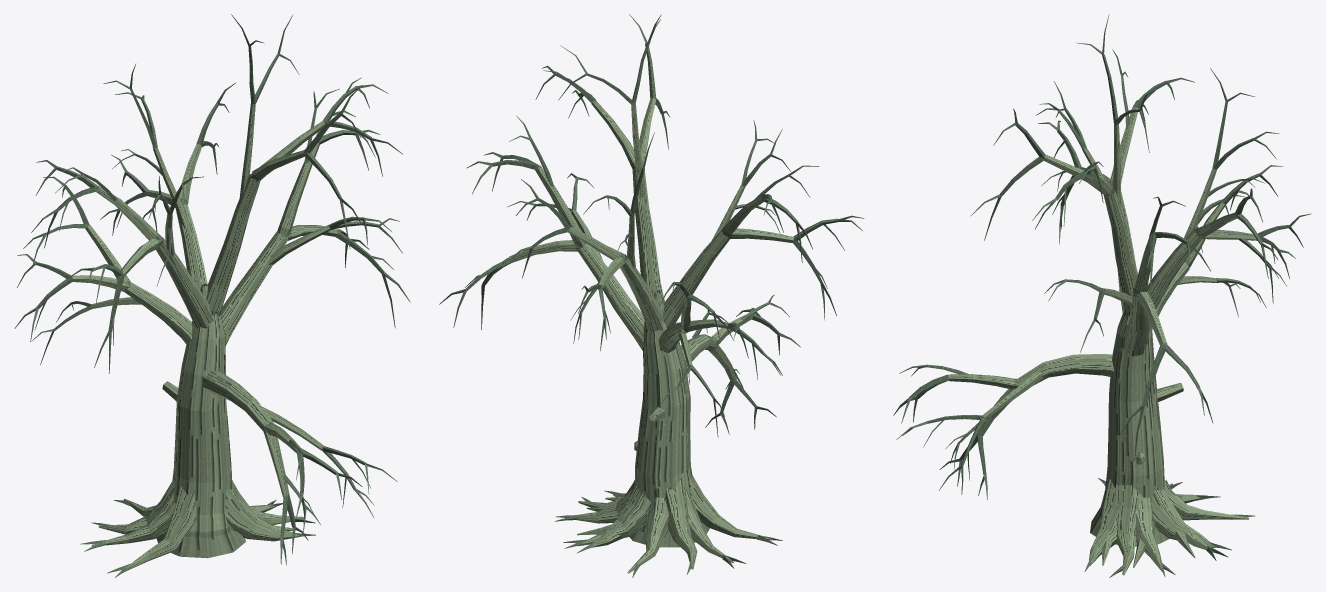
File: SM_Forest_Tree_Gamigin_4910x4810x6600.fbx
The picture shows the model from 3 angles, left to right: view 1: azimuth 30°, elevation 25°; view 2: azimuth 150°, elevation 25°; view 3: azimuth 270°, elevation 25°; orthographic projection. The views are drawn at different scales.
Parts seen in each view (by area): view 1: SM_Forest_Tree_Gamigin_4910x4810x6600.001; view 2: SM_Forest_Tree_Gamigin_4910x4810x6600.001; view 3: SM_Forest_Tree_Gamigin_4910x4810x6600.001.
Part boxes in pixels (<box>): SM_Forest_Tree_Gamigin_4910x4810x6600.001: <box>14,14,410,577</box>; SM_Forest_Tree_Gamigin_4910x4810x6600.001: <box>439,14,864,577</box>; SM_Forest_Tree_Gamigin_4910x4810x6600.001: <box>893,14,1311,577</box>.
Size of the model in its own units: 49.15 by 66.47 by 48.09.
